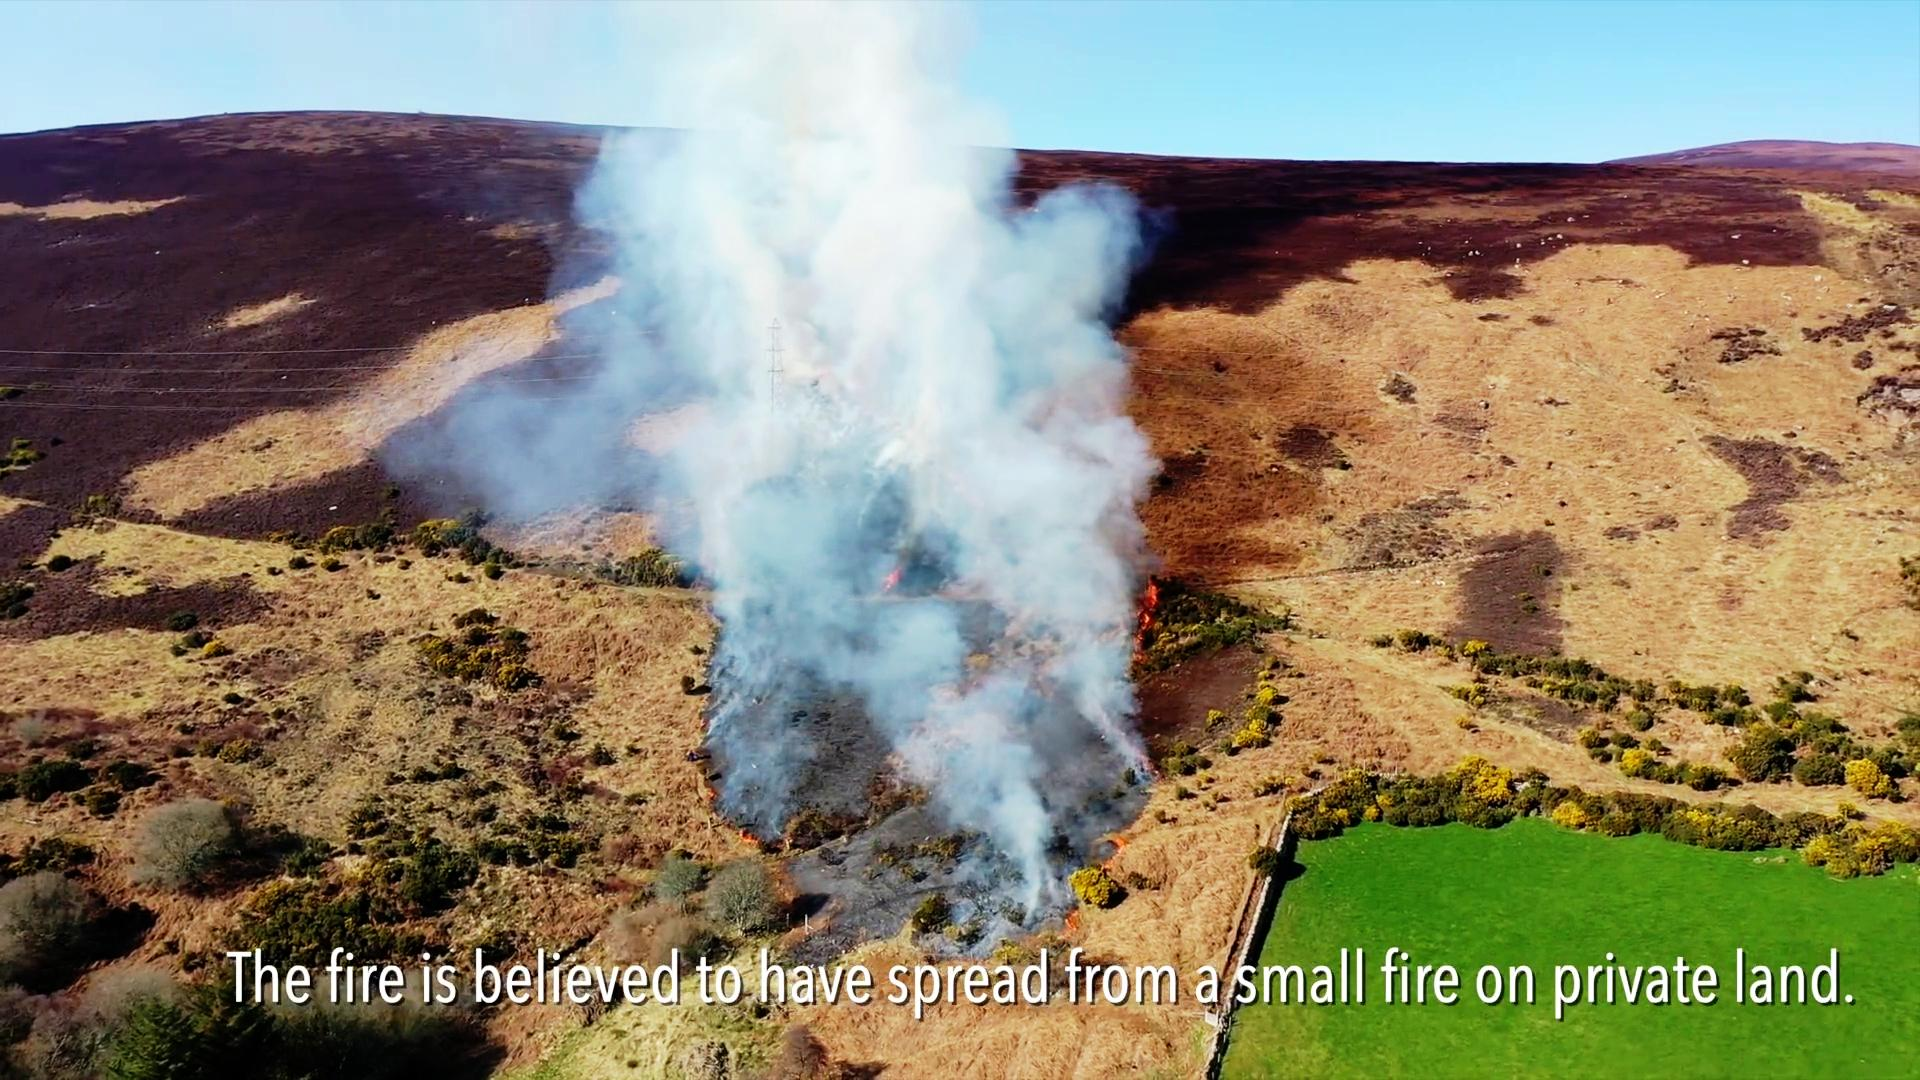smoke: (725, 17, 945, 825), (923, 191, 1156, 683), (775, 36, 1005, 451), (873, 579, 1060, 903)
